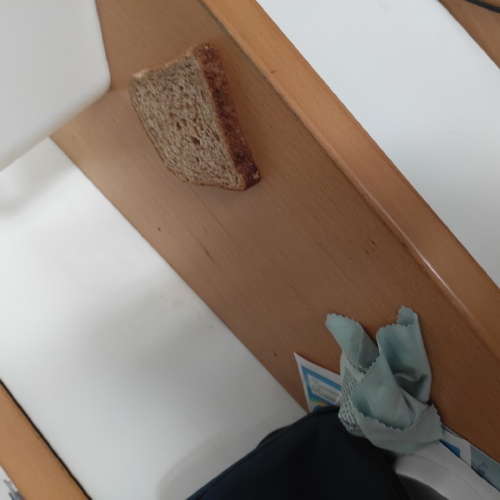pane: (125, 36, 264, 194)
